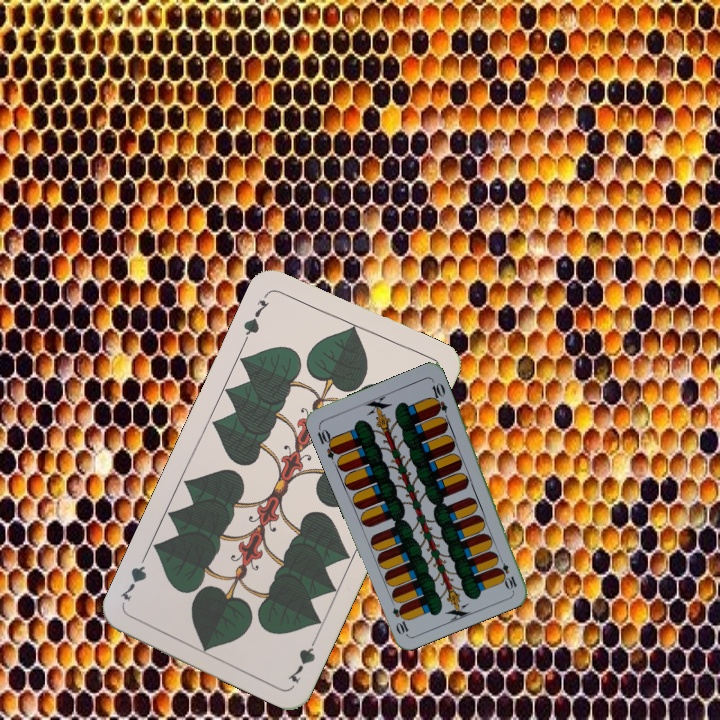E10: (313, 423, 342, 462), (494, 553, 519, 592)
G7: (283, 630, 321, 686), (239, 295, 272, 344)
